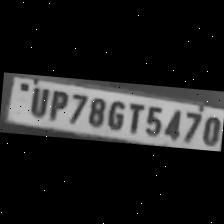0: (198, 112, 222, 148)
4: (160, 105, 182, 141)
5: (141, 102, 164, 137)
7: (63, 90, 87, 126), (178, 108, 200, 144)
8: (84, 94, 106, 129)
G: (103, 97, 127, 132)
P: (44, 88, 69, 122)
T: (124, 100, 145, 134)
U: (24, 84, 49, 118)
